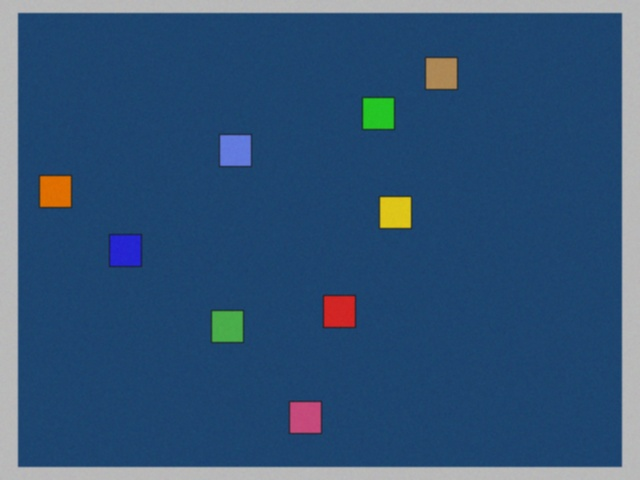block: (39, 176, 85, 210), (420, 58, 458, 98), (109, 234, 151, 266), (360, 98, 395, 136), (289, 392, 321, 433), (212, 307, 248, 343), (220, 135, 255, 171), (376, 197, 412, 229), (324, 292, 356, 327)
